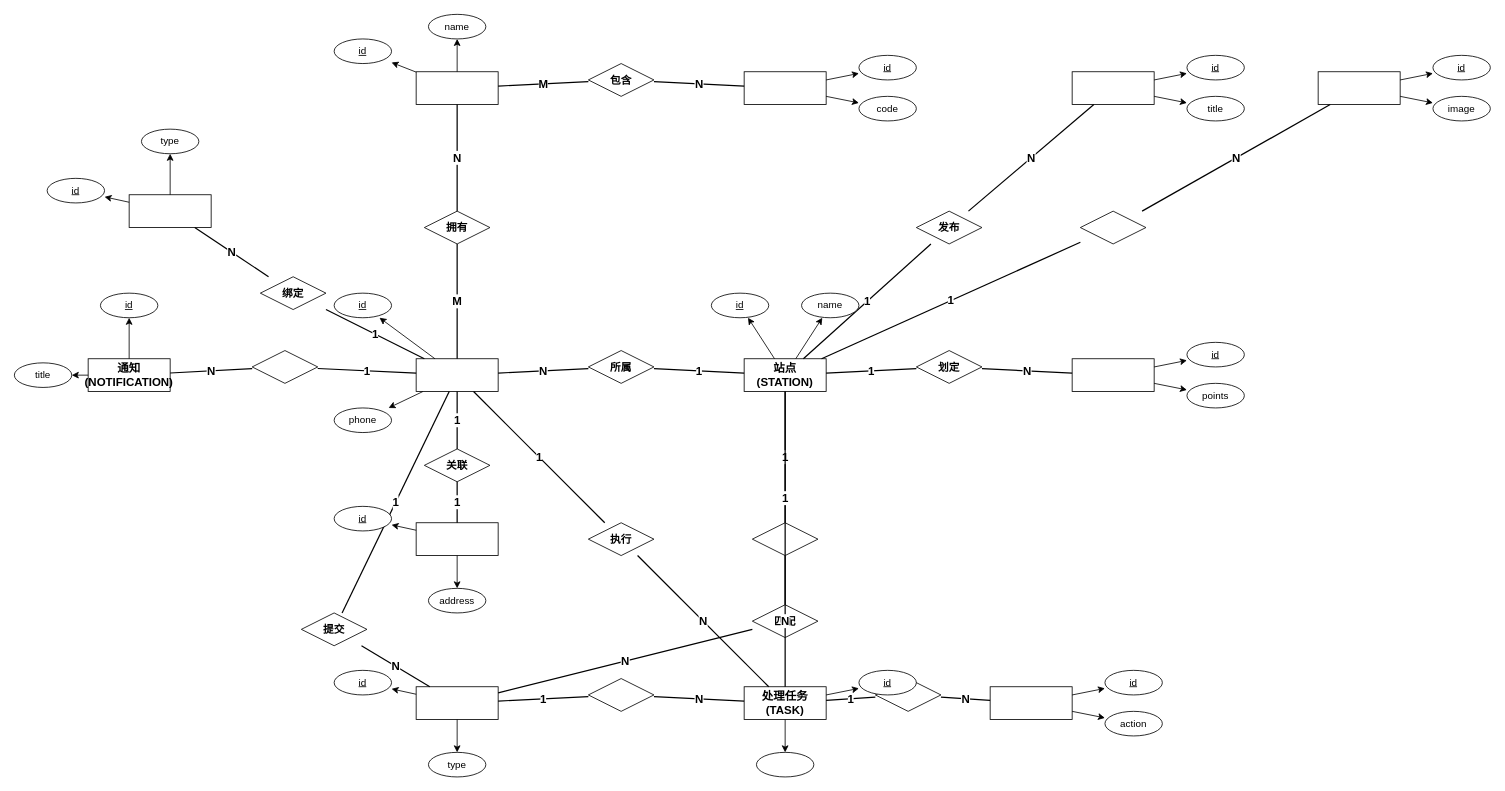
The diagram is 1505 pixels wide and 791 high, and some of its shapes have lost their labels. The shapes that lost their labels are listed below. From the top down, each one's box as (x1, y1, x2, y2) in pixels, then its label:
(415, 71, 498, 105): 角色 (ROLE)
(743, 71, 826, 105): 权限 (PERMISSION)
(1071, 71, 1154, 105): 新闻资讯 (NEWS)
(1317, 71, 1400, 105): 轮播图 (BANNER)
(128, 194, 211, 228): 用户身份 (IDENTITY)
(1080, 210, 1146, 244): 配置
(251, 350, 318, 383): 接收
(415, 358, 498, 392): 用户 (USER)
(1071, 358, 1154, 392): 围栏 (ZONE)
(415, 522, 498, 556): 客户档案 (PROFILE)
(752, 522, 818, 556): 归属
(415, 686, 498, 720): 服务需求 (REQUEST)
(588, 678, 654, 711): 对应
(875, 678, 941, 711): 记录
(989, 686, 1072, 720): 任务历史 (HISTORY)
(756, 752, 814, 777): status
